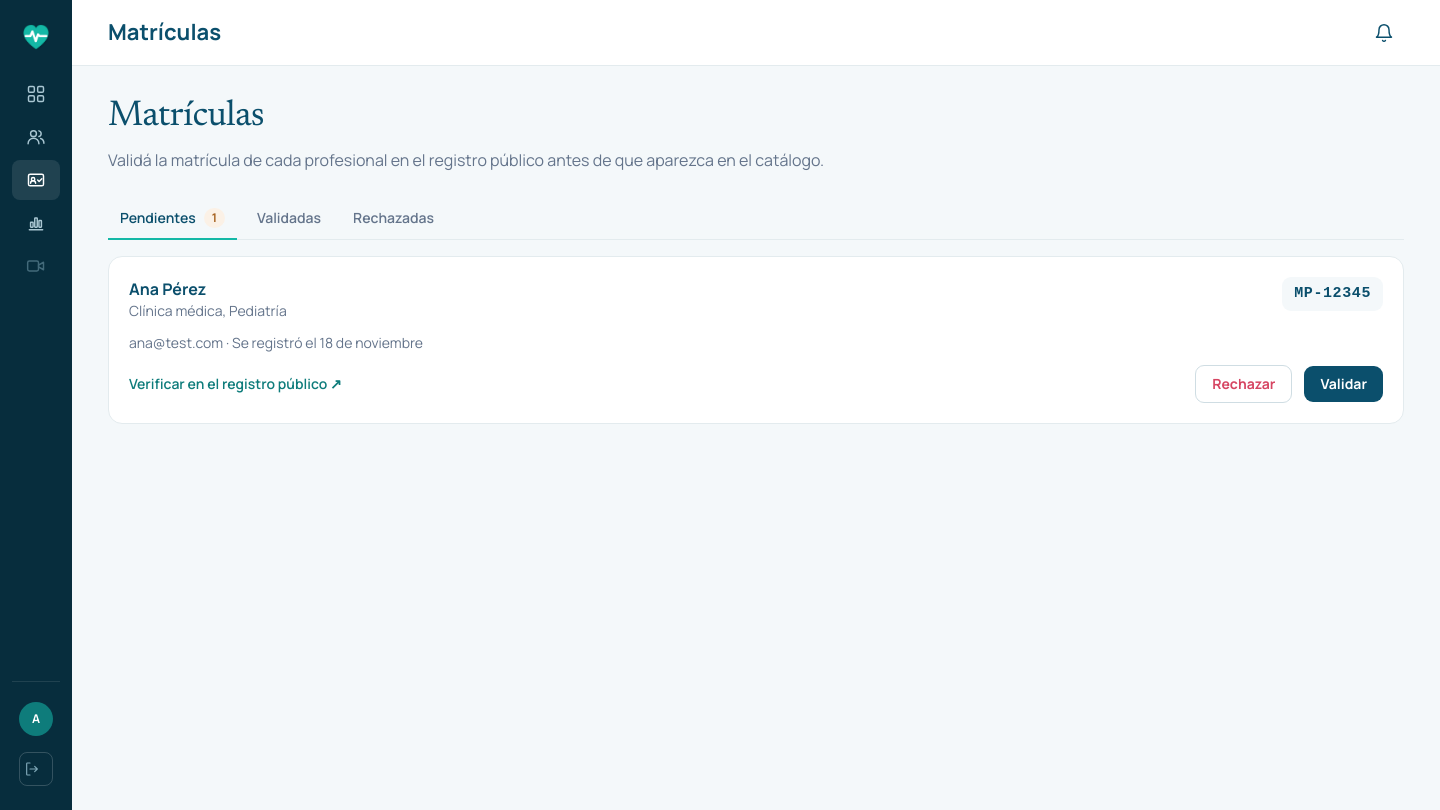
Matrículas › la pestaña de rechazadas muestra la fecha y el motivo, sin botones
The width and height of the screenshot is (1440, 810).
Click the tab "Rechazadas": (394, 219) [341,198,446,240]
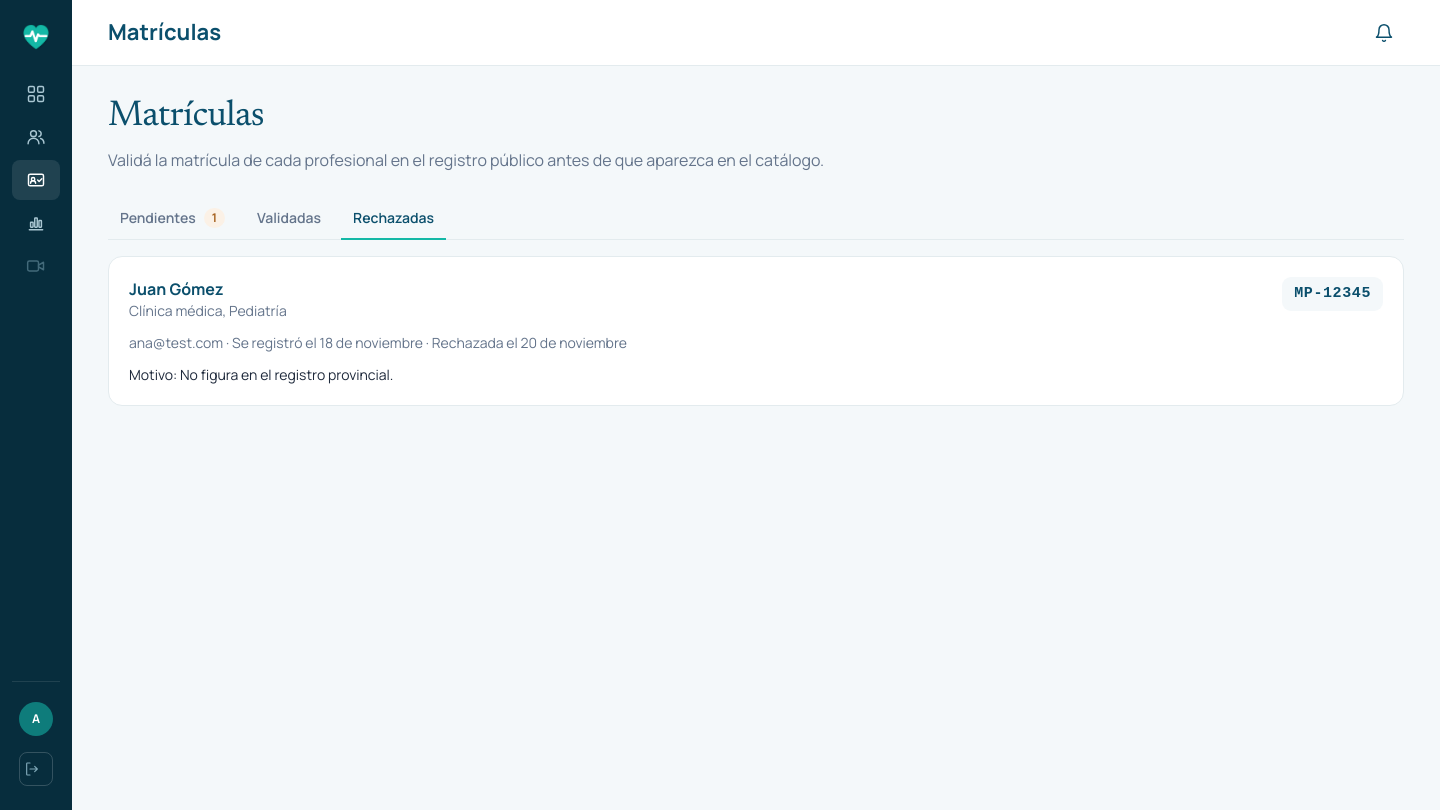
Now the list item shows "Juan Gómez", box [108,256,1404,406]
Now the list item shows "Rechazada el 20 de noviembre", box [423,333,627,352]
Now the list item shows "Motivo: No figura en el registro provincial.", box [108,256,1404,406]
